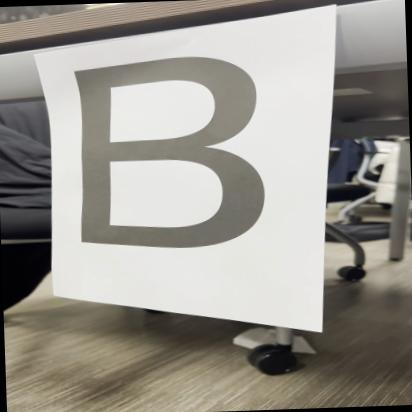seat: (48, 48, 296, 262)
